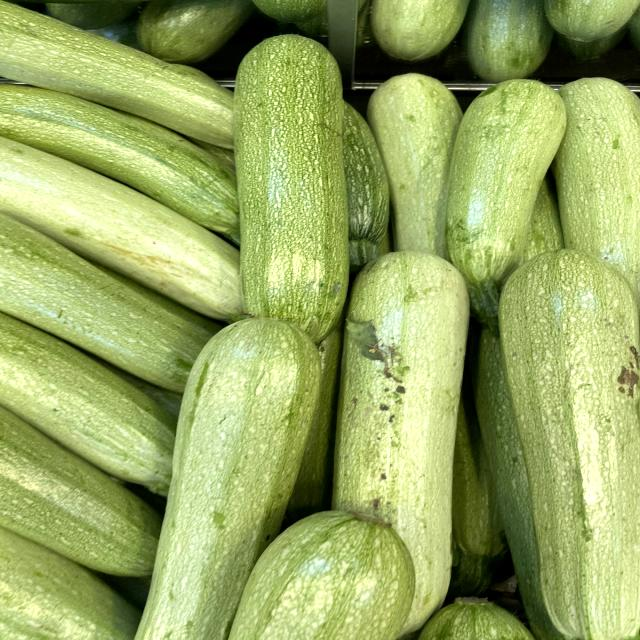zucchini: (230, 27, 362, 339), (433, 66, 578, 340)
